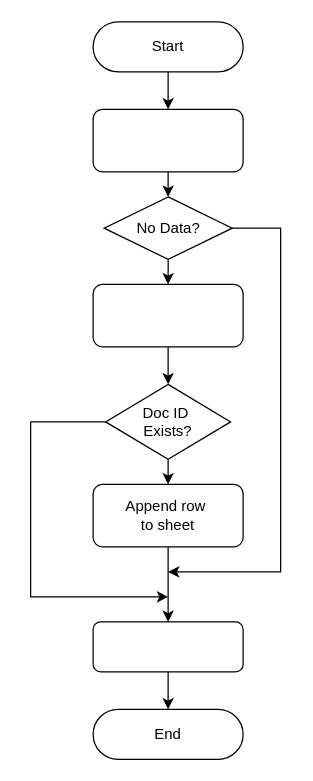
This 313x781 diagram has some shape labels left out. Each missing label, with the centre of its shape:
"Fetch Data from Firestore" belongs at (167,140).
"Log Duplicates" belongs at (167,646).
"Read rows from sheets" belongs at (167,315).
